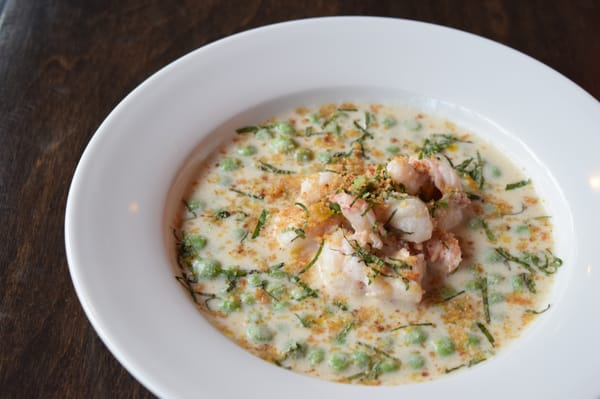curry: (1, 2, 597, 391)
sandwich: (175, 99, 572, 386)
